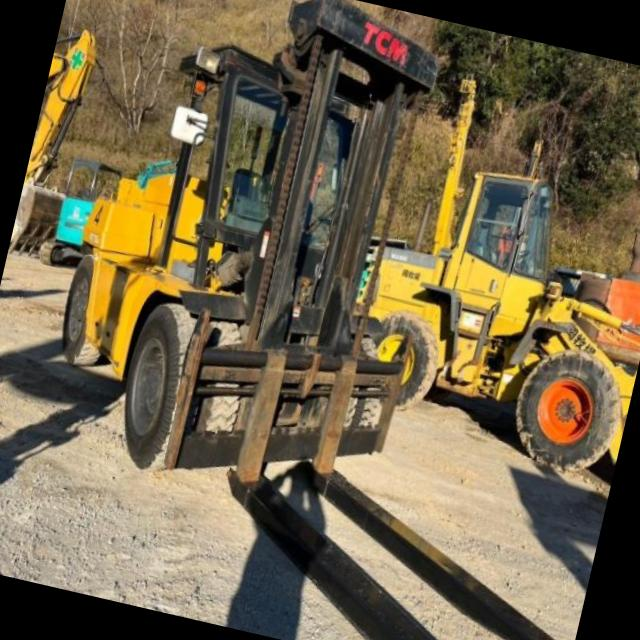forklift: (36, 0, 493, 525)
